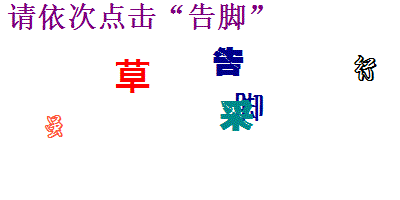result: (185, 1, 249, 32)
text: (112, 56, 154, 97), (217, 98, 254, 134), (210, 44, 247, 78), (233, 90, 265, 123), (351, 51, 379, 85), (42, 112, 65, 140)
